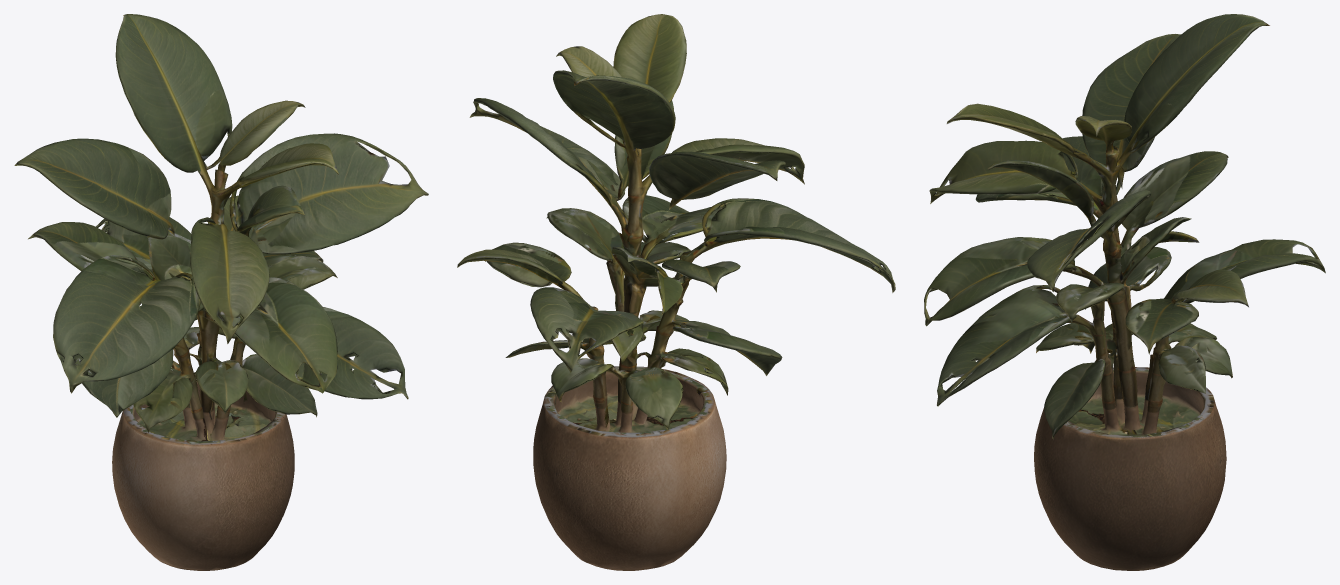
File: VAR_LivingRoom_PottedPlant.fbx
3 renders of one model, left to right at view 1: azimuth 30°, elevation 25°; view 2: azimuth 150°, elevation 25°; view 3: azimuth 270°, elevation 25°, orthographic. The views are drawn at different scales.
Parts seen in each view (by area): view 1: texture_mapping; view 2: texture_mapping; view 3: texture_mapping.
Boxes of the visible parts, x1,y1,x2,y2 form: texture_mapping: (14,14,428,570); texture_mapping: (457,14,895,570); texture_mapping: (924,14,1325,570).
Bounding box in the file's own units: 0.8088 × 0.7015 × 1.
1 material, 1 textured.
